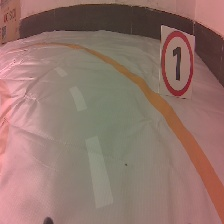limit: (159, 23, 196, 103)
